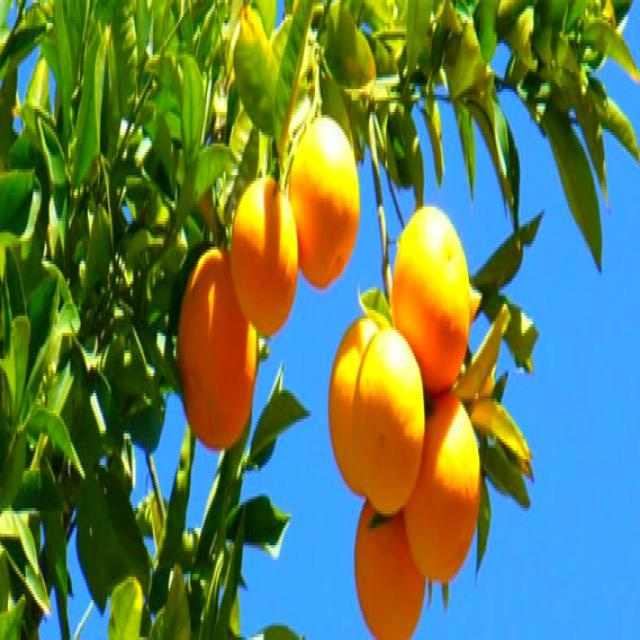Jeruk Sudah Matang: (174, 239, 261, 456), (404, 374, 486, 582), (388, 200, 472, 398), (348, 324, 427, 518), (287, 104, 362, 296), (348, 482, 434, 640), (229, 169, 300, 342)
